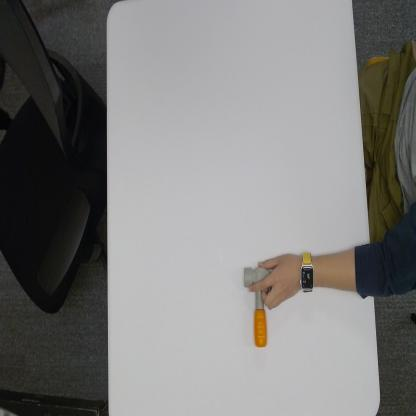Arm: (315, 245, 372, 297)
Hammer: (242, 265, 274, 347)
Hand: (249, 254, 300, 310)
